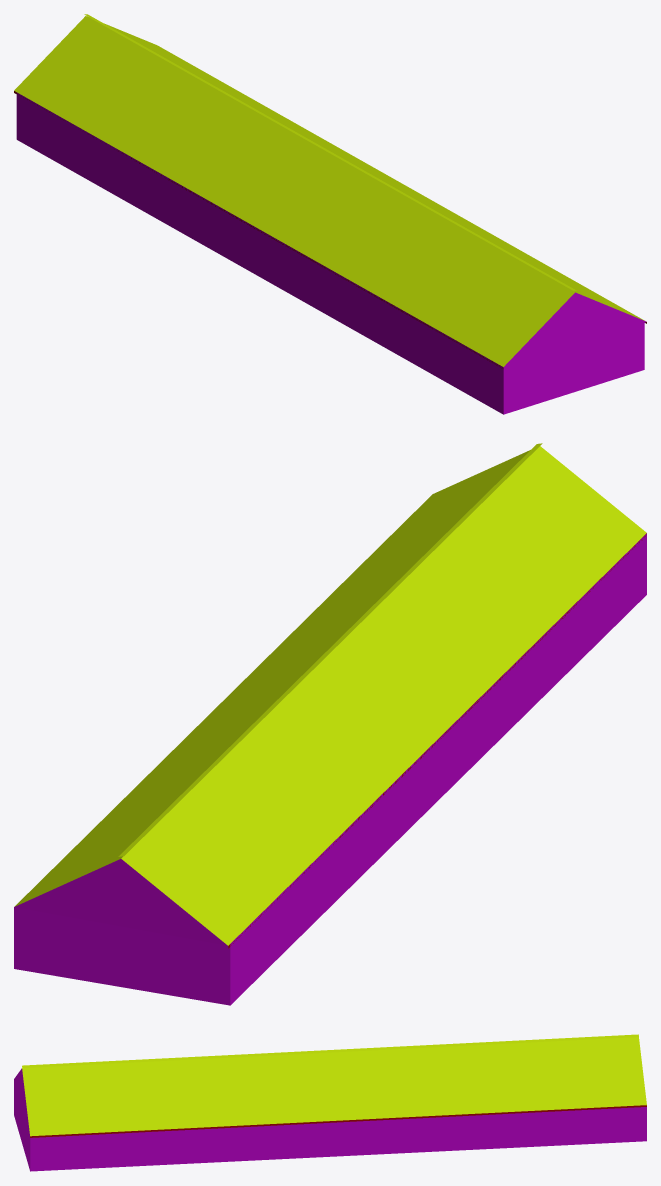
Rendered from tunnel.glb.
3 renders of one model, top to bottom at view 1: azimuth 30°, elevation 25°; view 2: azimuth 150°, elevation 25°; view 3: azimuth 270°, elevation 25°, orthographic. The views are drawn at different scales.
Parts seen in each view (by area): view 1: tunnel; view 2: tunnel; view 3: tunnel.
Boxes of the visible parts, bbox=[...] form: tunnel: bbox=[14, 14, 646, 414]; tunnel: bbox=[14, 443, 646, 1005]; tunnel: bbox=[14, 1034, 646, 1171].
Size of the model in its own units: 13.37 by 5.47 by 40.53.
